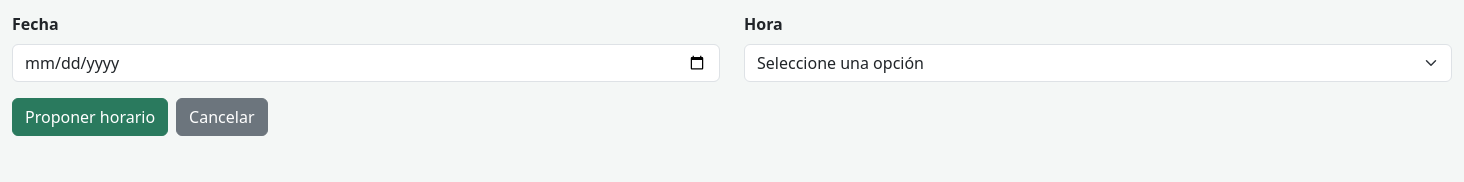
it: FormularioReagendar › muestra los errores y NO avisa si no se eligió fecha ni hora
The width and height of the screenshot is (1464, 182).
Click the button "Proponer horario": (90, 117) [12,98,168,136]
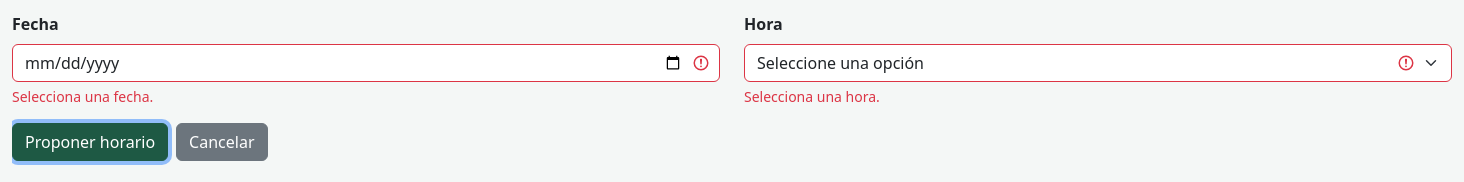
Result: the number of messages is 2 at [12,87,153,106]; [744,87,880,106]
